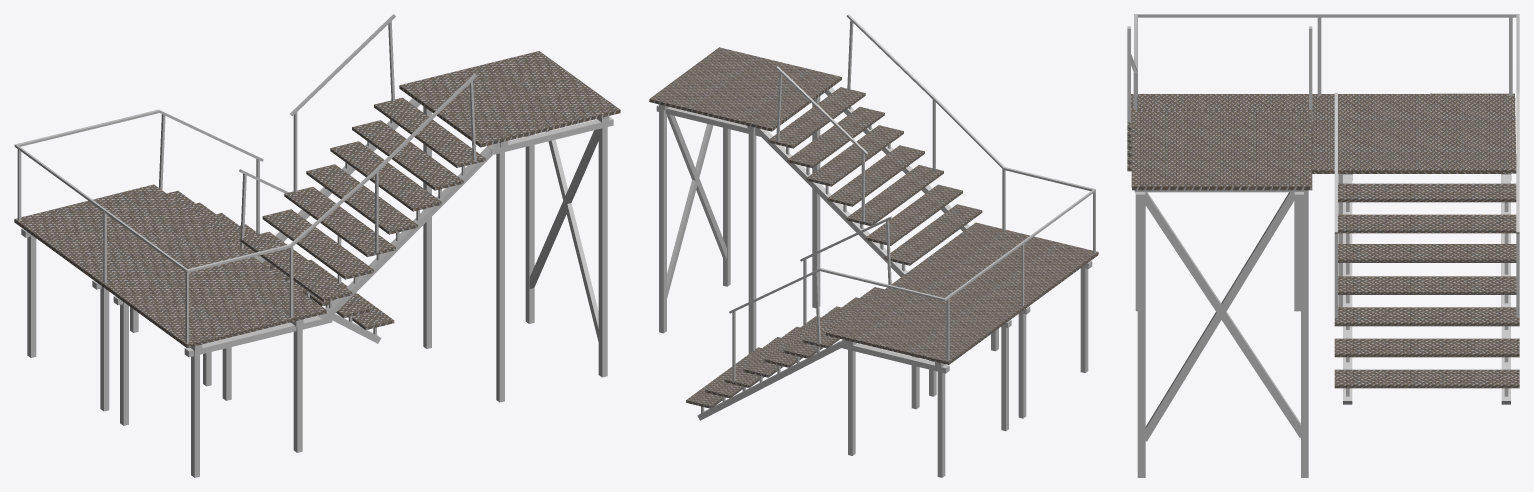
Rendered from stairs02.fbx.
3 renders of one model, left to right at view 1: azimuth 30°, elevation 25°; view 2: azimuth 150°, elevation 25°; view 3: azimuth 270°, elevation 25°, orthographic. The views are drawn at different scales.
Visible parts, largest first — view 1: Mesh Object; view 2: Mesh Object; view 3: Mesh Object.
Part boxes in pixels (box(x1,y1,x2,y2)): Mesh Object: box(14, 14, 620, 477); Mesh Object: box(649, 14, 1098, 477); Mesh Object: box(1127, 14, 1519, 477).
Size of the model in its own units: 4.13 by 3.09 by 2.89.
